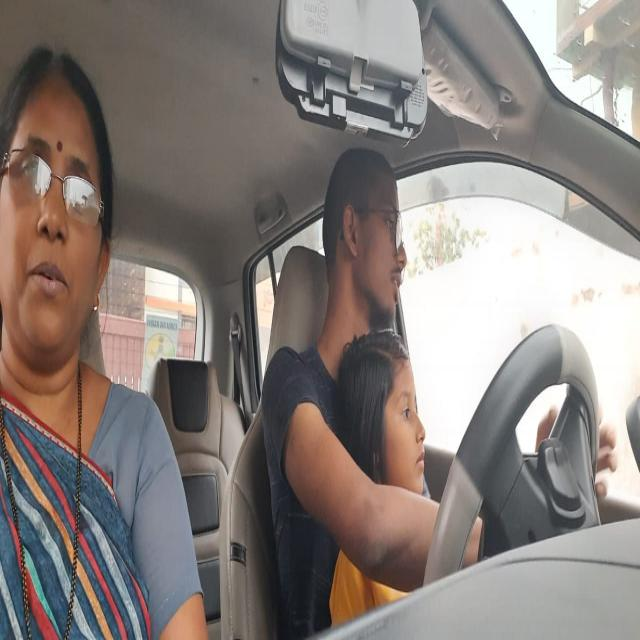child: (338, 328, 432, 502)
person: (1, 45, 121, 377), (319, 146, 414, 324)
